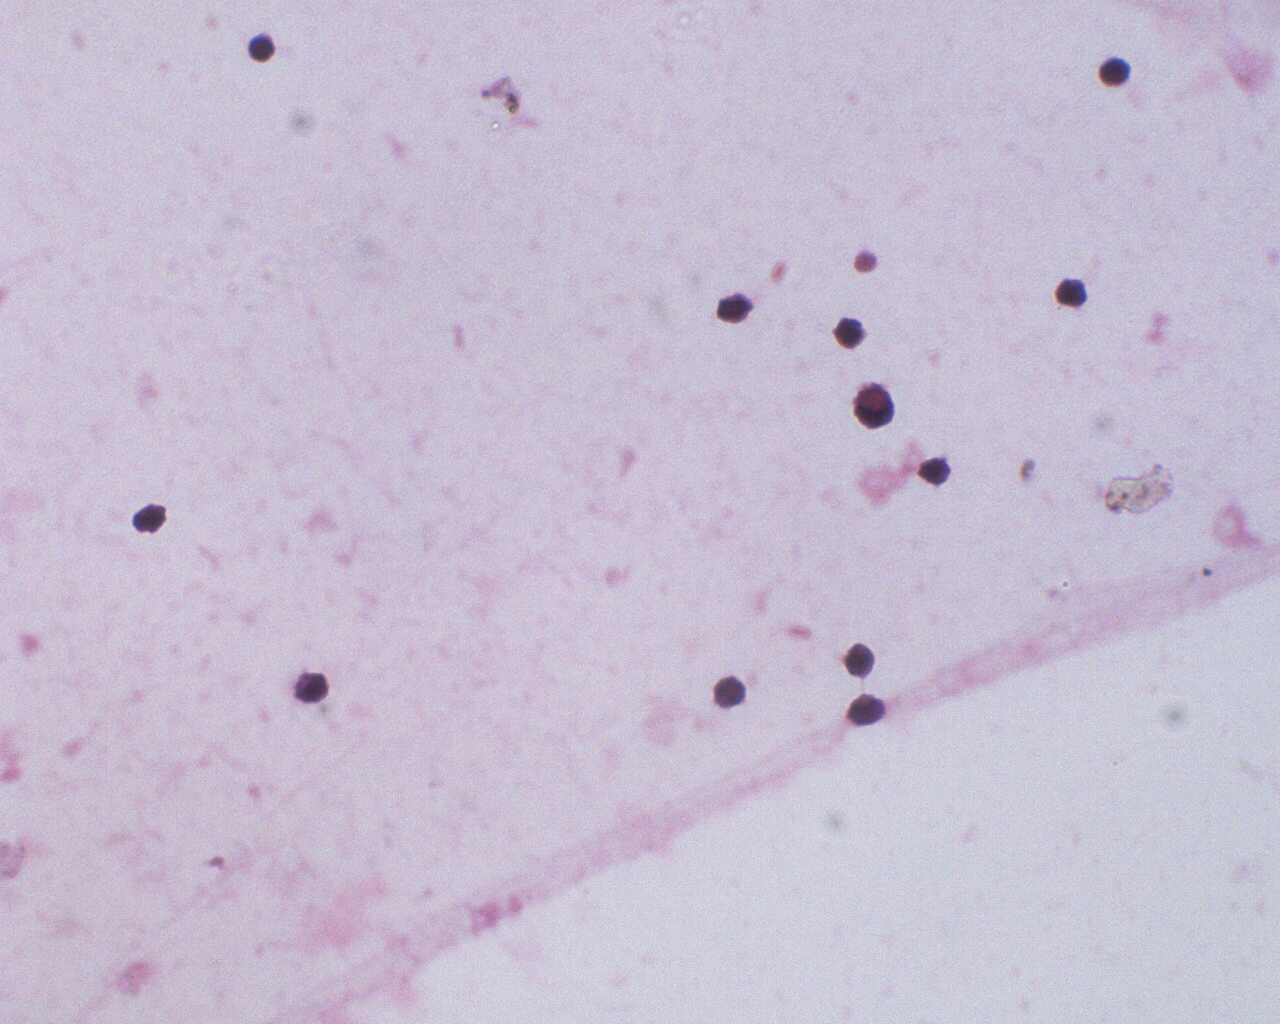lymph: (842, 689, 890, 732), (707, 667, 751, 713), (844, 636, 883, 685), (1052, 272, 1095, 316), (290, 666, 334, 705), (1094, 49, 1135, 91), (245, 31, 284, 69)
neutro: (851, 375, 901, 441)
